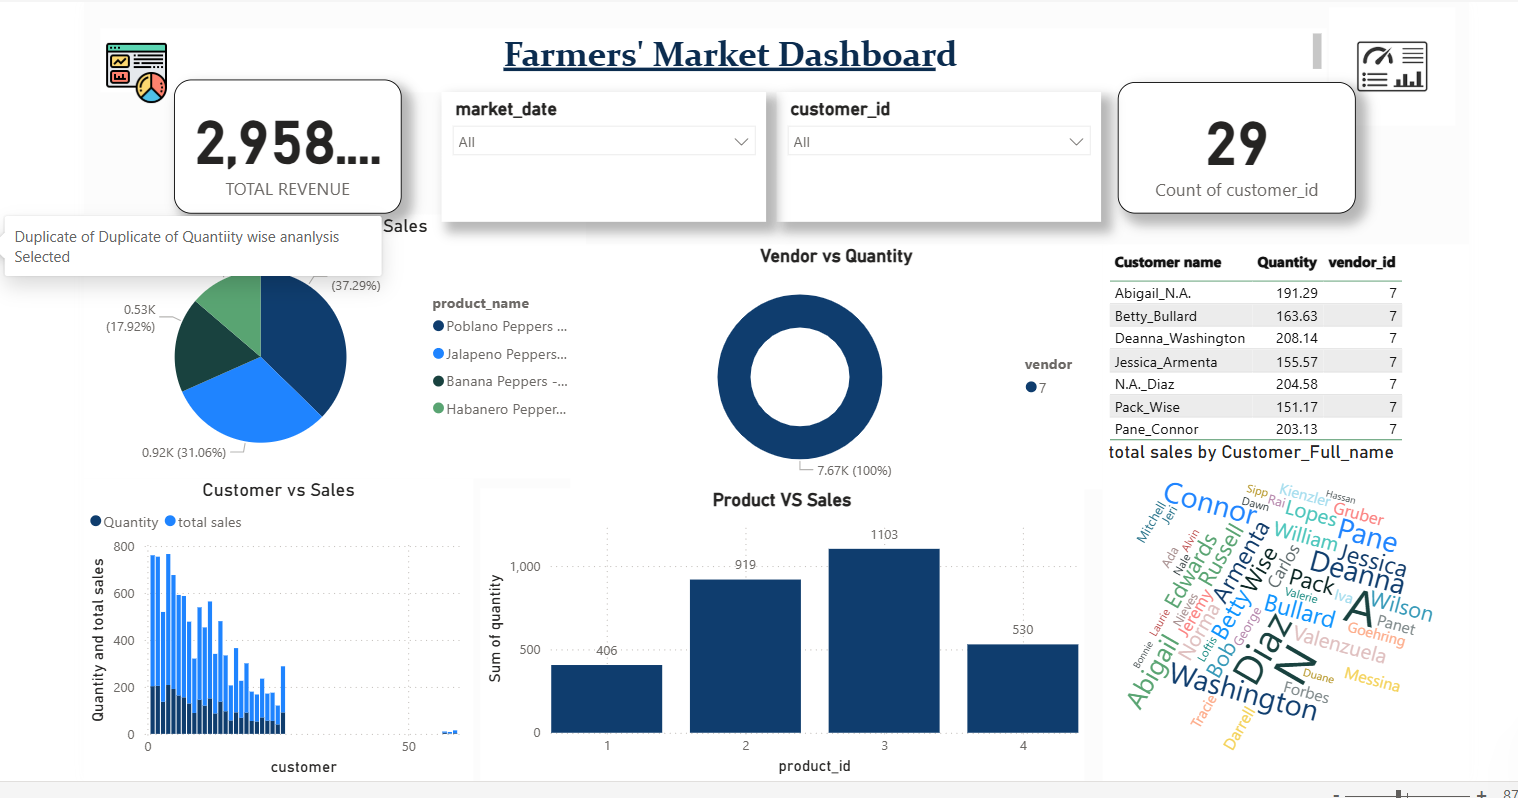

This screenshot's page, from the dashboard's own definition file:
{"tool":"powerbi","page":{"name":"Duplicate of Duplicate of Quantiity wise ananlysis","canvas":[1280,720],"ordinal":4},"visuals":[{"type":"columnChart","title":"Customer vs Sales","fields":{"Category":["customer_purchases.customer_id"],"Y":["customer_purchases.quantity","booth.total sales"]},"box":[0,440,360,280],"z":0},{"type":"columnChart","title":"Product VS Sales","fields":{"Category":["product.product_id"],"Y":["customer_purchases.quantity"]},"box":[366,450,558,270],"z":1000},{"type":"pieChart","title":"Product name vs Sales","fields":{"Category":["product.product_name"],"Y":["customer_purchases.quantity"]},"box":[0,196.2,463.8,244.3],"z":2000},{"type":"donutChart","title":"Vendor vs Quantity","fields":{"Category":["customer_purchases.vendor_id"],"Y":["booth.total sales"]},"box":[450,224,492,226],"z":3000},{"type":"textbox","box":[15.1,24.7,1133.5,59],"z":4000},{"type":"image","box":[15.1,0,67.2,131.7],"z":5000},{"type":"image","box":[1137.6,0,142.7,119.4],"z":6000},{"type":"card","fields":{"Values":["customer_purchases.quantity"]},"box":[82.9,71.4,210,124.3],"z":7000},{"type":"card","fields":{"Values":["customer_purchases.customer_id"]},"box":[955.7,74.3,220,121.4],"z":8000},{"type":"tableEx","fields":{"Values":["customer.Customer_Full_name","customer_purchases.quantity","customer_purchases.vendor_id"]},"box":[941.3,223.7,338.9,216.8],"z":9000},{"type":"slicer","fields":{"Values":["customer.customer_id"]},"box":[640,82.9,300,120],"z":10000},{"type":"slicer","fields":{"Values":["market_date_info.market_date"]},"box":[330,82.9,300,120],"z":11000},{"type":"WordCloud1447959067750","fields":{"Category":["customer.Customer_Full_name"],"Values":["booth.total sales"]},"box":[941.6,406,338.7,314.3],"z":12000}]}

Visuals, with their boxes on the page's 1280x720 design canvas (x1, y1, x2, y2). These are canvas units, not pixel positions in the 1518x798 screenshot, which may show the page scaled, cropped or inside an application window:
"Customer vs Sales" columnChart: {"left": 0, "top": 440, "right": 360, "bottom": 720}
"Product VS Sales" columnChart: {"left": 366, "top": 450, "right": 924, "bottom": 720}
"Product name vs Sales" pieChart: {"left": 0, "top": 196, "right": 464, "bottom": 440}
"Vendor vs Quantity" donutChart: {"left": 450, "top": 224, "right": 942, "bottom": 450}
textbox: {"left": 15, "top": 25, "right": 1149, "bottom": 84}
image: {"left": 15, "top": 0, "right": 82, "bottom": 132}
image: {"left": 1138, "top": 0, "right": 1280, "bottom": 119}
card - customer_purchases.quantity: {"left": 83, "top": 71, "right": 293, "bottom": 196}
card - customer_purchases.customer_id: {"left": 956, "top": 74, "right": 1176, "bottom": 196}
tableEx - customer.Customer_Full_name x customer_purchases.quantity: {"left": 941, "top": 224, "right": 1280, "bottom": 440}
slicer - customer.customer_id: {"left": 640, "top": 83, "right": 940, "bottom": 203}
slicer - market_date_info.market_date: {"left": 330, "top": 83, "right": 630, "bottom": 203}
WordCloud1447959067750 - customer.Customer_Full_name x booth.total sales: {"left": 942, "top": 406, "right": 1280, "bottom": 720}
